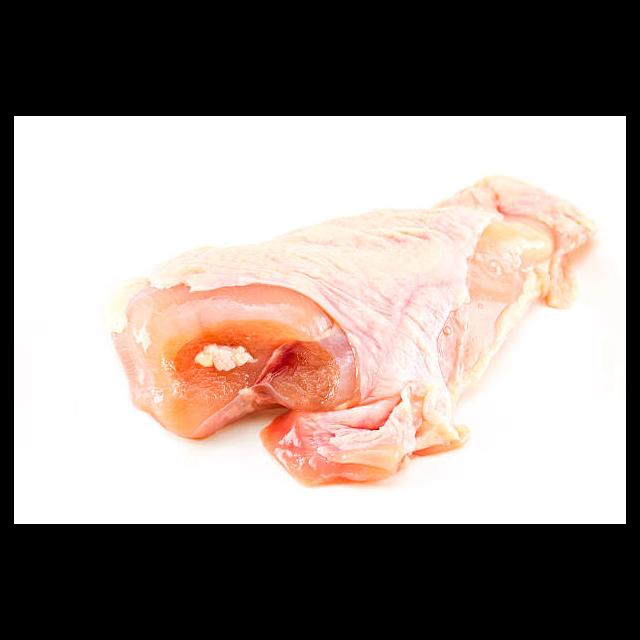chicken: (111, 175, 601, 488)
